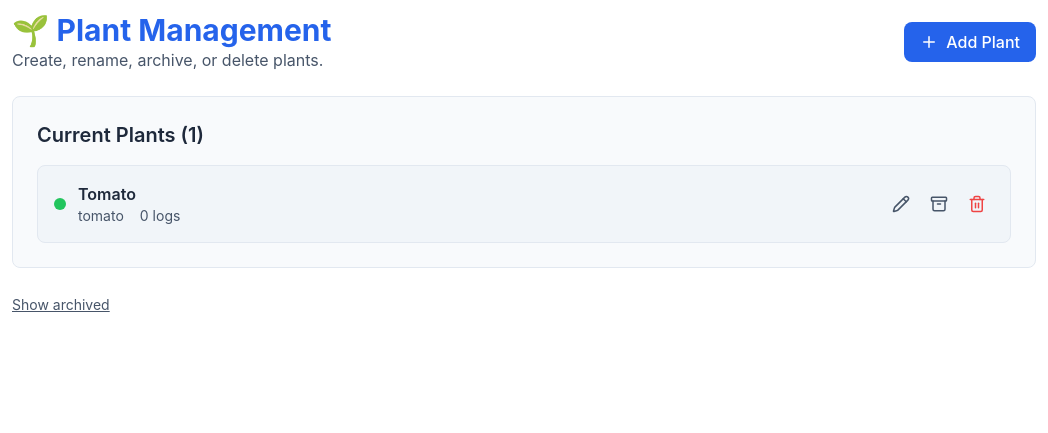
Scenario: PlantManager (MR-25) › Show archived fetches and renders the archived plant
Click the button "Show archived" at (61, 305), box [12,295,110,315]
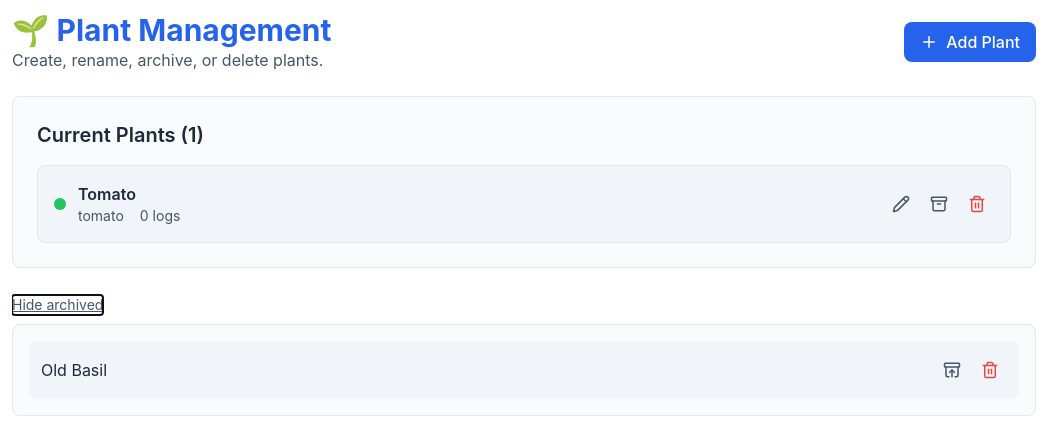
Expected: the text "Old Basil" is shown, [41,358,107,382]
